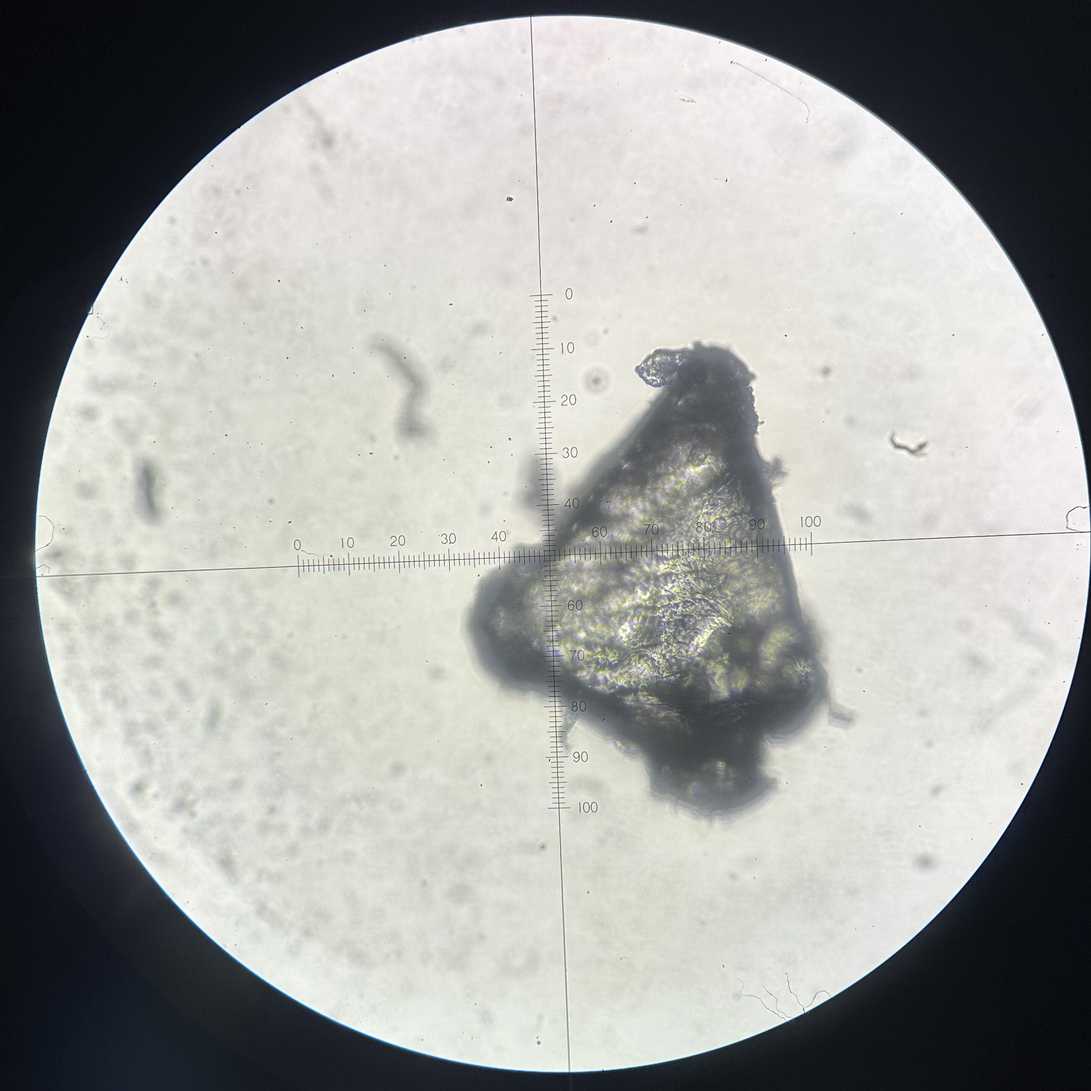microplastic: (466, 337, 856, 816), (369, 339, 435, 444), (133, 461, 169, 522), (889, 429, 930, 459)
